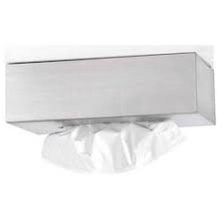book: (0, 47, 221, 141)
tissue: (36, 113, 192, 182)
